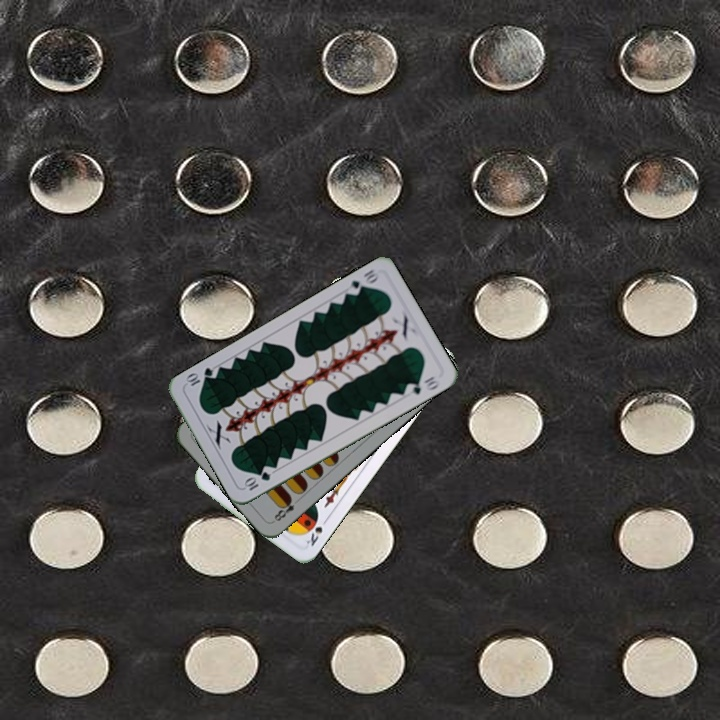E8: (269, 493, 298, 525)
G10: (343, 265, 382, 298), (240, 468, 273, 493)
SK: (302, 513, 331, 549)
